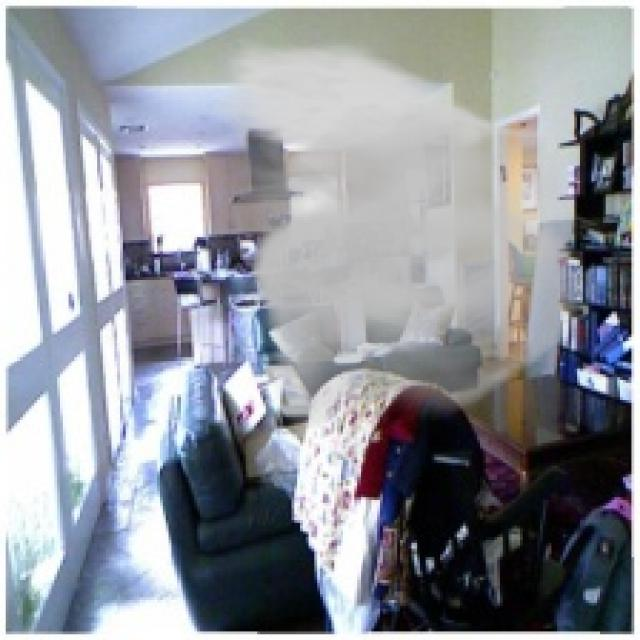smoke: (206, 37, 597, 429)
